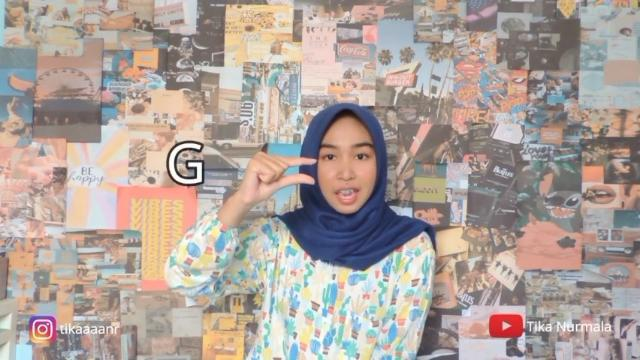G: (240, 152, 318, 204)
